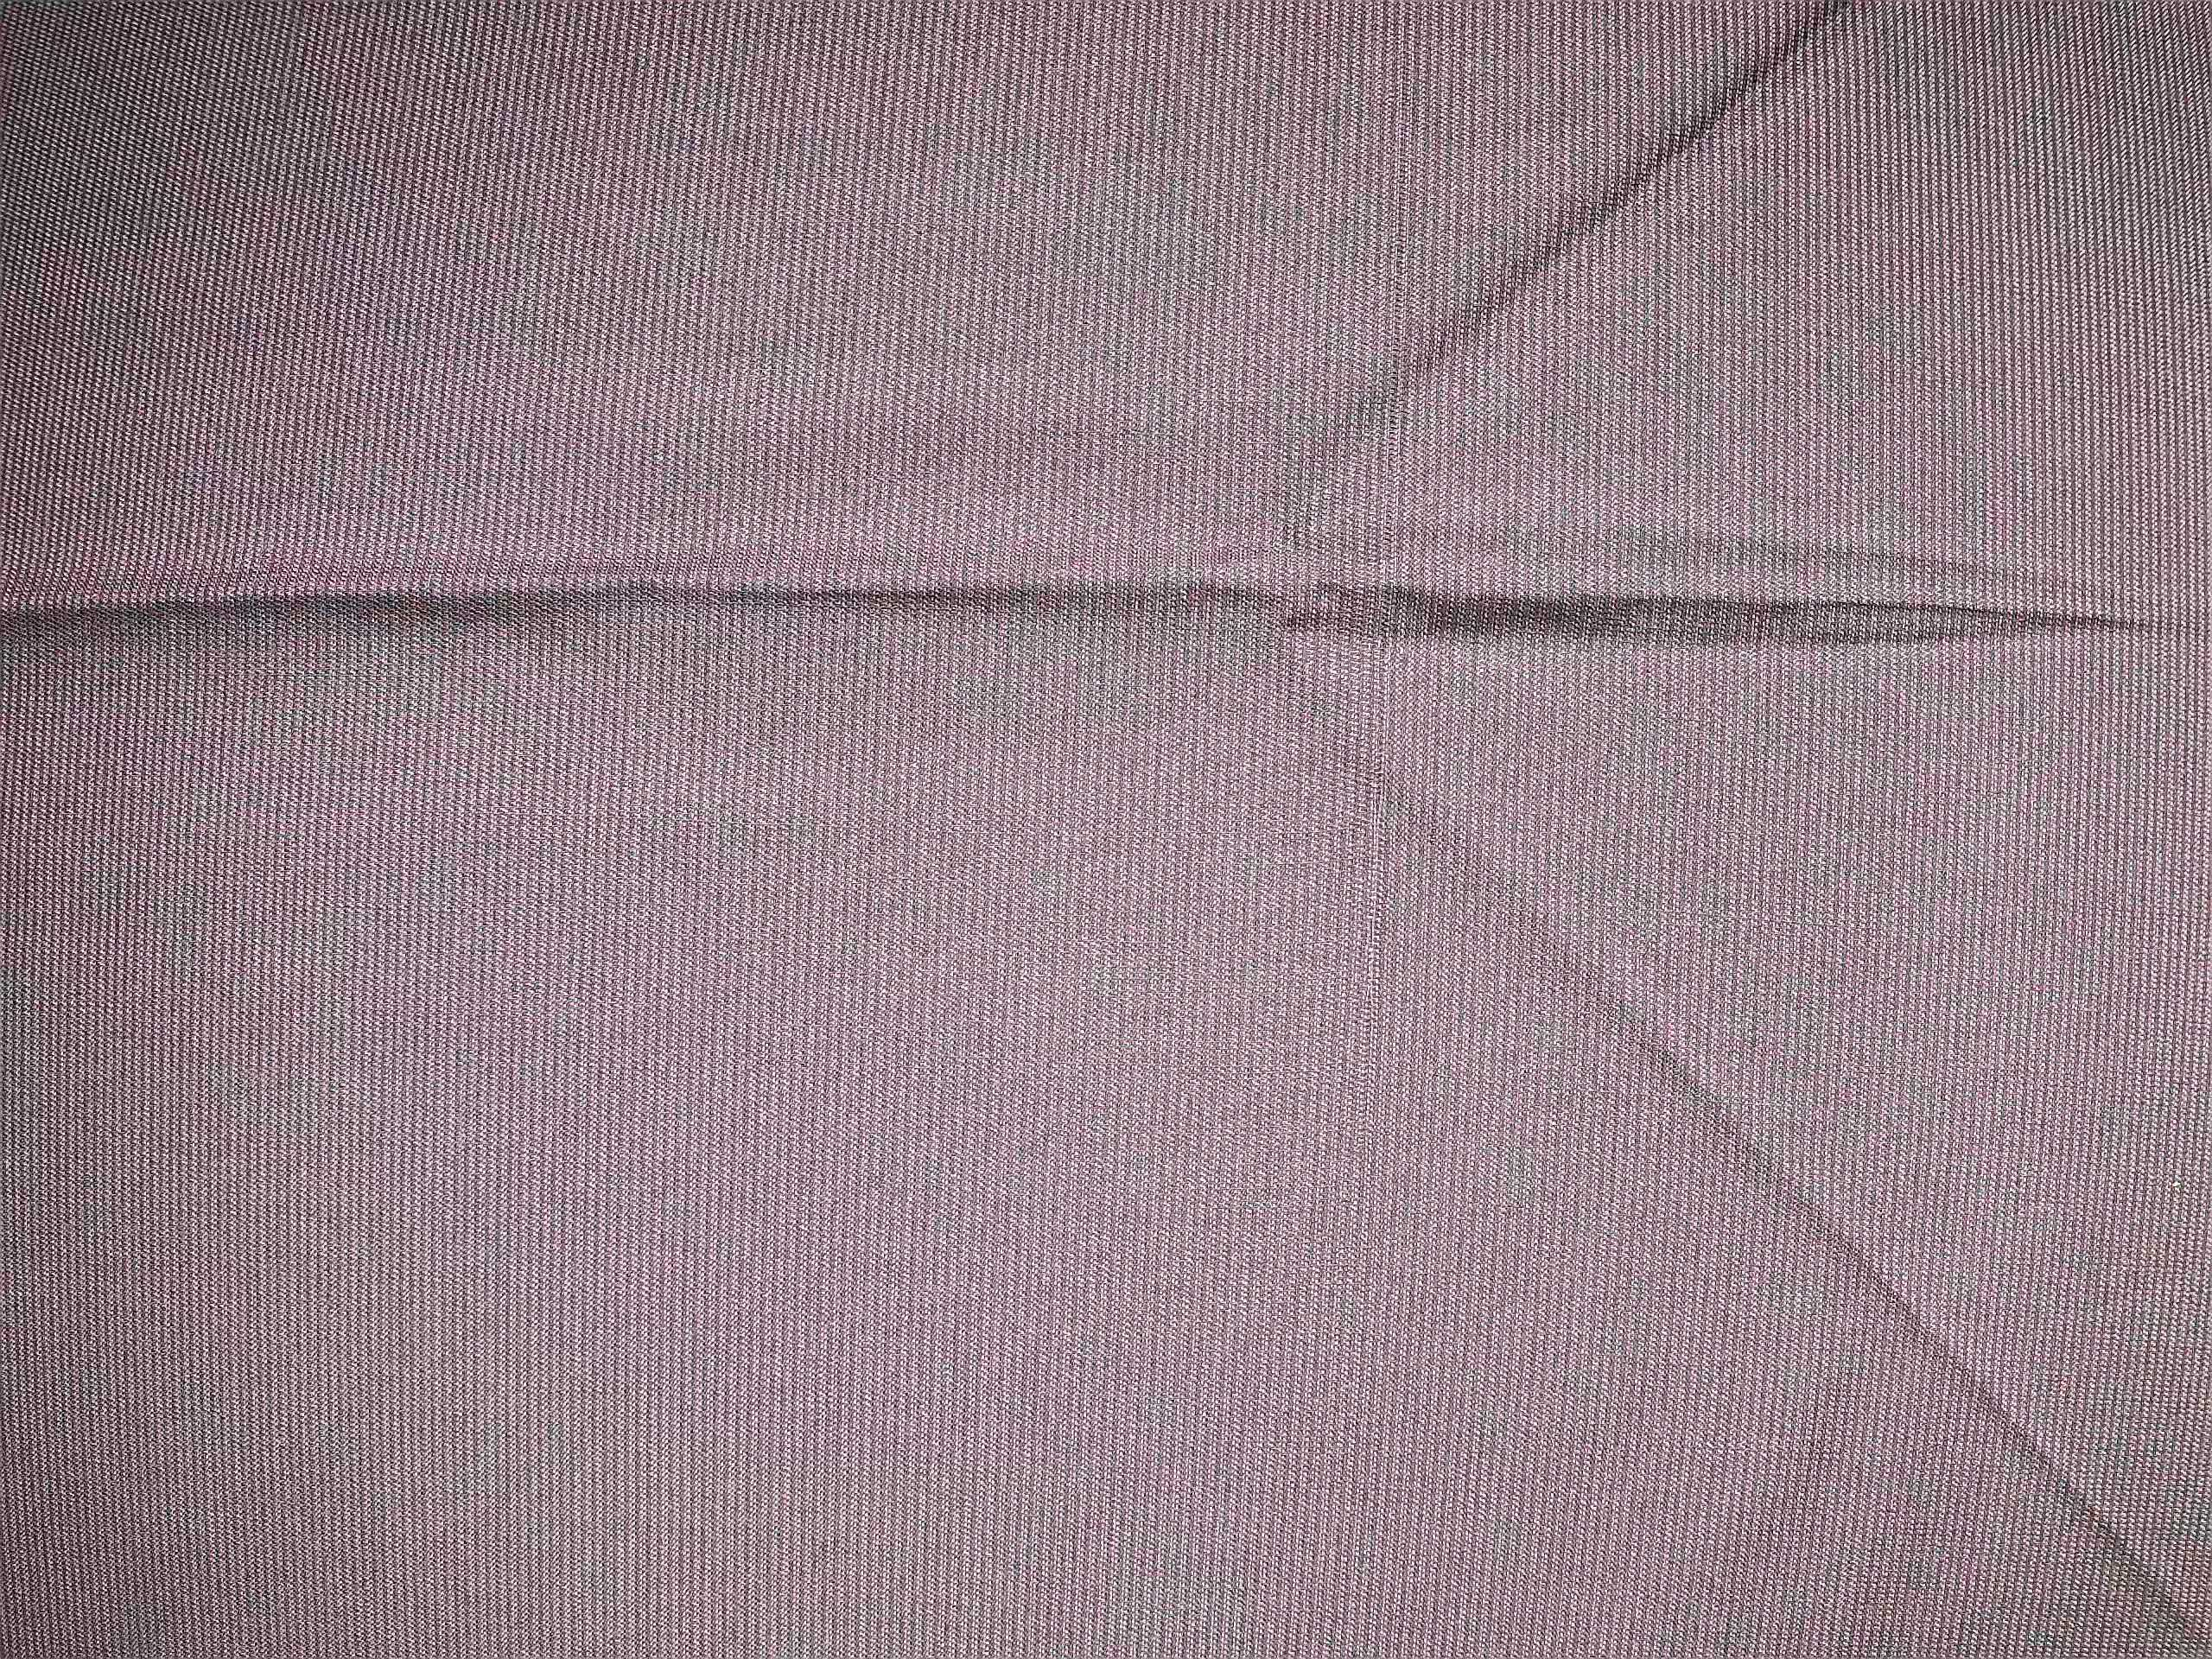hanging-warp: (1339, 293, 1425, 1147)
